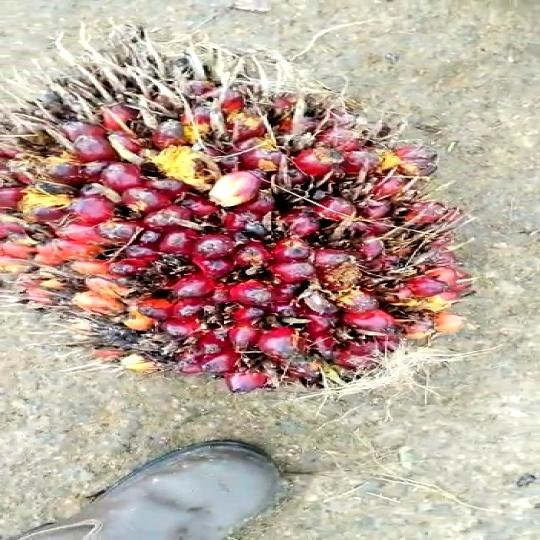masak: (0, 53, 506, 400)
